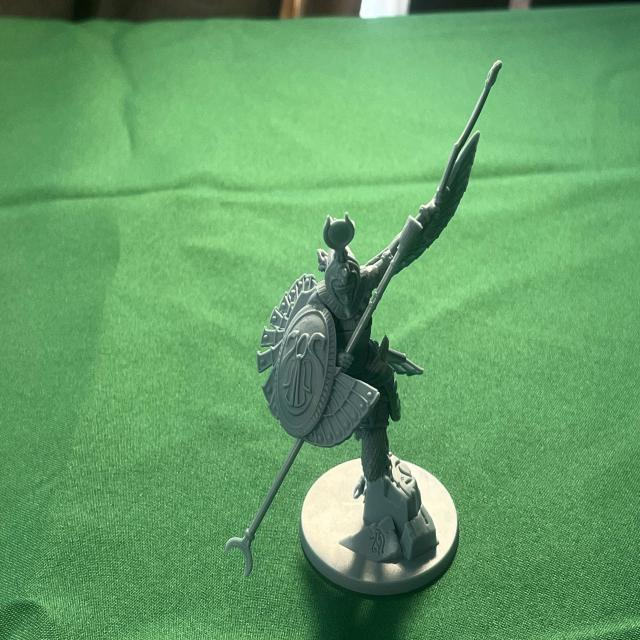isis: (215, 51, 512, 618)
